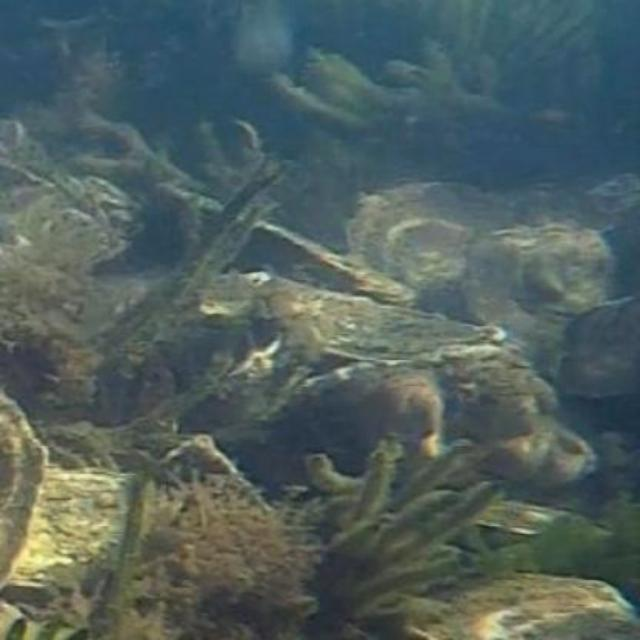Oyster-Closed: (473, 221, 623, 373), (259, 282, 503, 365), (358, 188, 526, 293), (424, 573, 640, 640), (0, 392, 49, 592)
